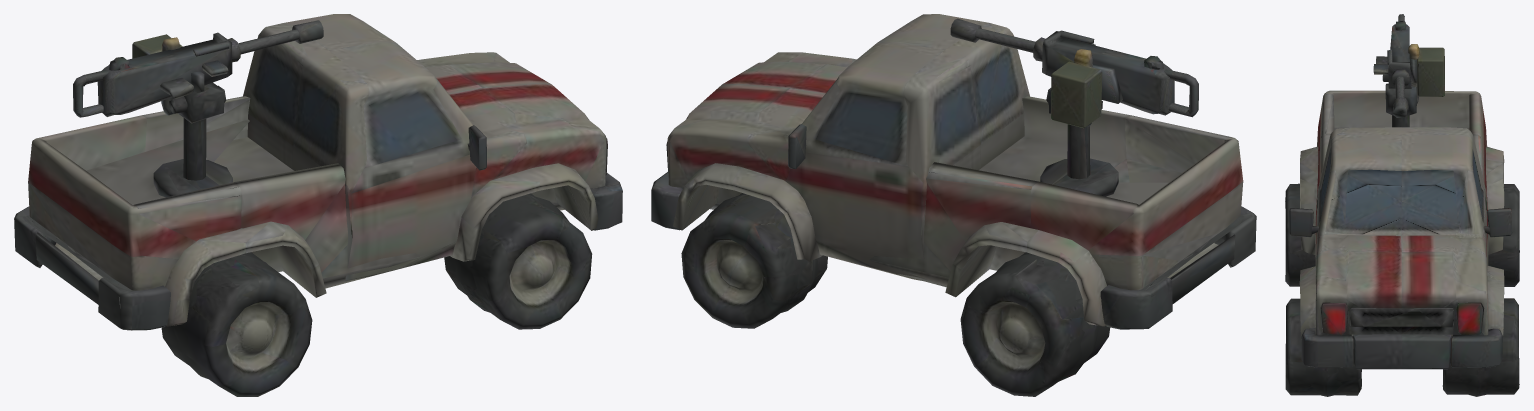
File: technical.glb
The picture shows the model from 3 angles, left to right: view 1: azimuth 30°, elevation 25°; view 2: azimuth 150°, elevation 25°; view 3: azimuth 270°, elevation 25°; orthographic projection. The views are drawn at different scales.
Visible parts, largest first — view 1: hull, turret; view 2: hull, turret; view 3: hull, turret.
Part boxes in pixels (x1,y1,x2,y2): hull: (14, 14, 622, 396); turret: (73, 20, 358, 179); hull: (651, 14, 1256, 396); turret: (915, 18, 1198, 178); hull: (1285, 90, 1519, 396); turret: (1351, 14, 1450, 134).
Bounding box in the file's own units: 1 × 0.5843 × 0.5233.
1 material, 1 textured.
